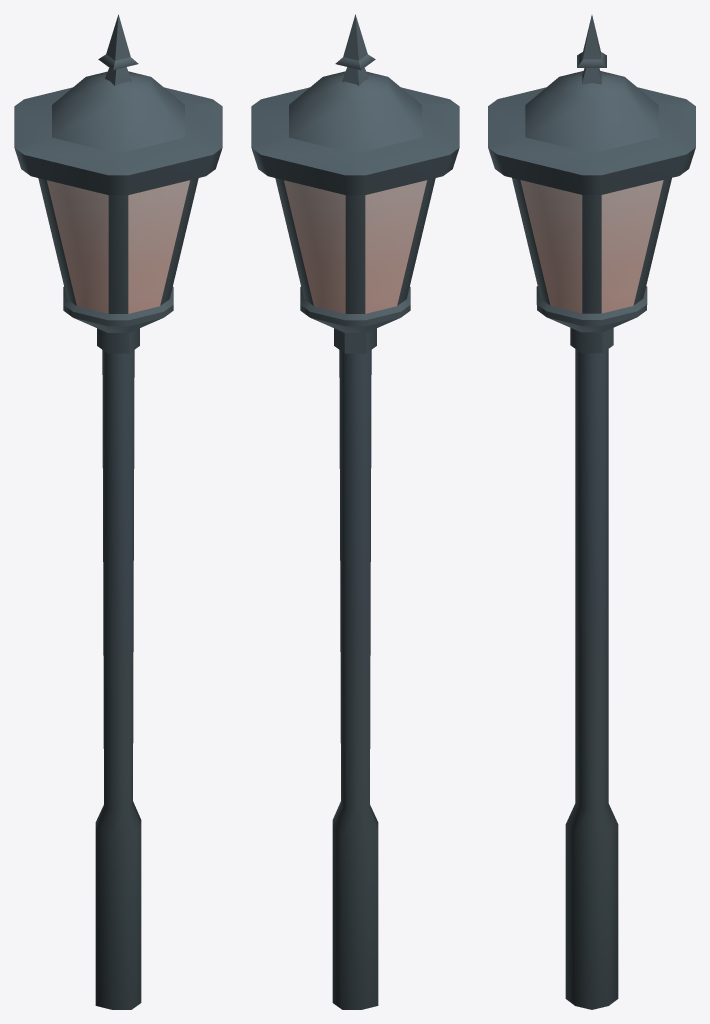
File: Map02_Decor_Cotden.fbx
3 renders of one model, left to right at view 1: azimuth 30°, elevation 25°; view 2: azimuth 150°, elevation 25°; view 3: azimuth 270°, elevation 25°, orthographic.
Visible parts, largest first — view 1: Map02_Decor_Cotden; view 2: Map02_Decor_Cotden; view 3: Map02_Decor_Cotden.
Boxes of the visible parts, x1,y1,x2,y2 form: Map02_Decor_Cotden: (14,14,222,1009); Map02_Decor_Cotden: (251,14,459,1009); Map02_Decor_Cotden: (488,15,695,1009).
Size of the model in its own units: 178 by 843 by 161.
